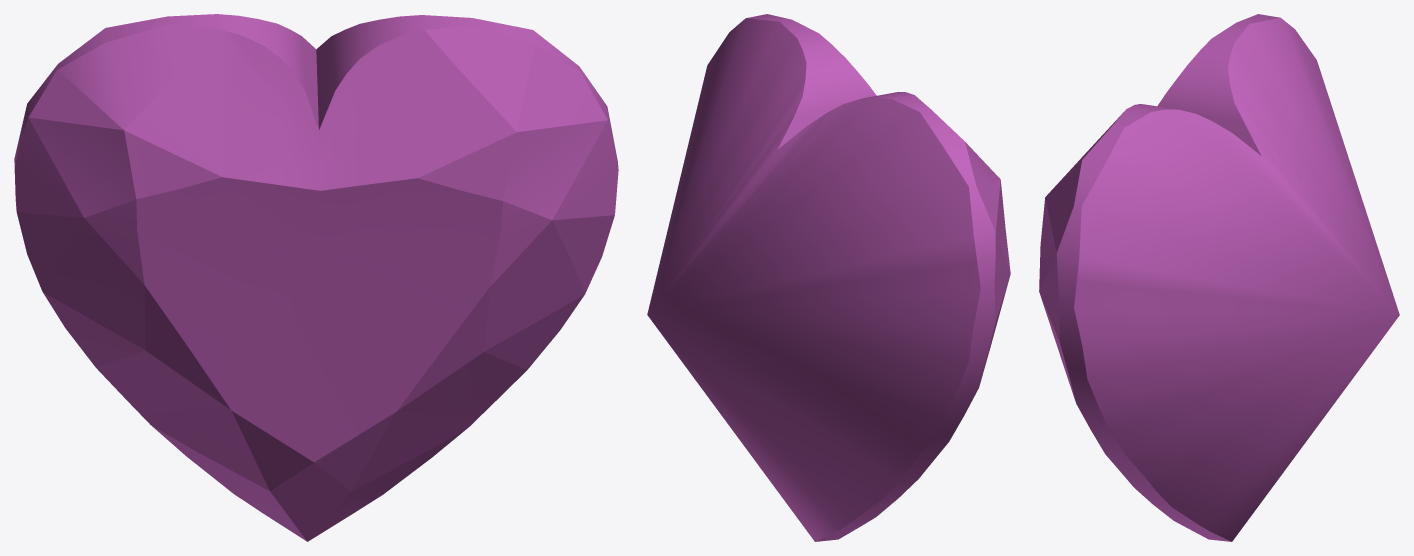
Rendered from TL2_8shapes_heart_Classic_Stone.001 3.glb.
The picture shows the model from 3 angles, left to right: view 1: azimuth 30°, elevation 25°; view 2: azimuth 150°, elevation 25°; view 3: azimuth 270°, elevation 25°; orthographic projection. The views are drawn at different scales.
Visible parts, largest first — view 1: TL2_8shapes_heart_Classic_Stone.001; view 2: TL2_8shapes_heart_Classic_Stone.001; view 3: TL2_8shapes_heart_Classic_Stone.001.
Part boxes in pixels (box(x1,y1,x2,y2)): TL2_8shapes_heart_Classic_Stone.001: box(14, 14, 618, 541); TL2_8shapes_heart_Classic_Stone.001: box(647, 14, 1010, 541); TL2_8shapes_heart_Classic_Stone.001: box(1039, 14, 1399, 541).
Bounding box in the file's own units: 0.4546 × 0.4964 × 0.3483.
